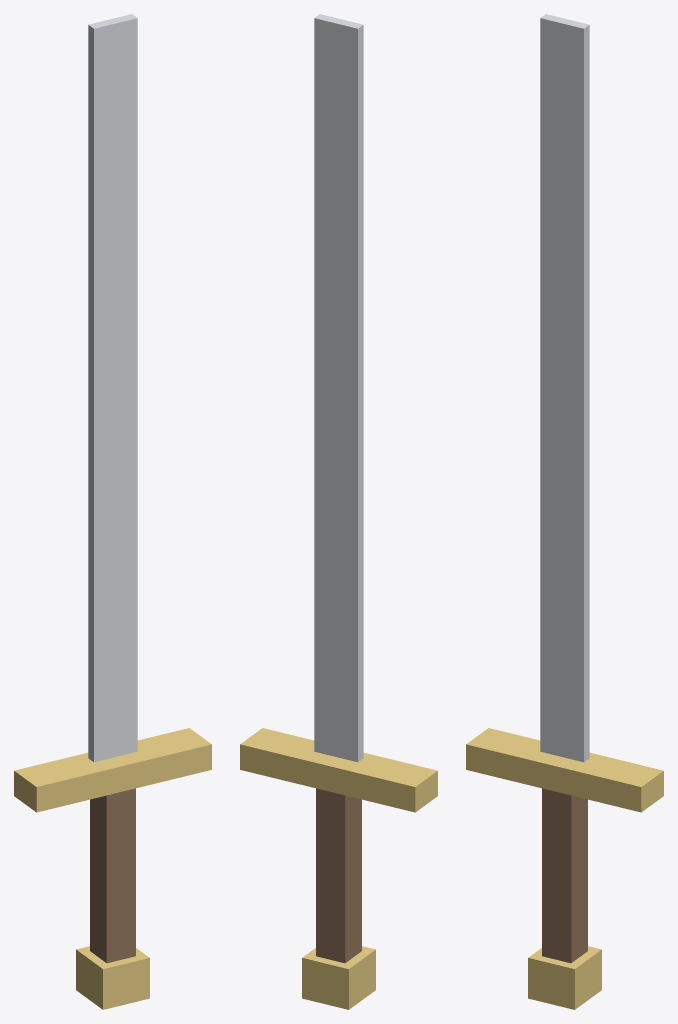
File: sword.glb
3 views of the same model, side by side, from view 1: azimuth 30°, elevation 25°; view 2: azimuth 150°, elevation 25°; view 3: azimuth 330°, elevation 25° (orthographic).
Visible parts, largest first — view 1: sword2, sword1, sword0, sword3; view 2: sword2, sword1, sword0, sword3; view 3: sword2, sword1, sword0, sword3.
Part boxes in pixels (box(x1,y1,x2,y2)): sword2: box(88, 14, 137, 762); sword1: box(14, 728, 211, 812); sword0: box(90, 788, 135, 963); sword3: box(76, 946, 149, 1009); sword2: box(314, 14, 363, 762); sword1: box(240, 728, 437, 812); sword0: box(316, 788, 361, 963); sword3: box(302, 946, 375, 1009); sword2: box(540, 14, 589, 762); sword1: box(466, 728, 663, 812); sword0: box(542, 788, 587, 963); sword3: box(528, 946, 601, 1009).
Size of the model in its own units: 0.18 by 0.955 by 0.048.
